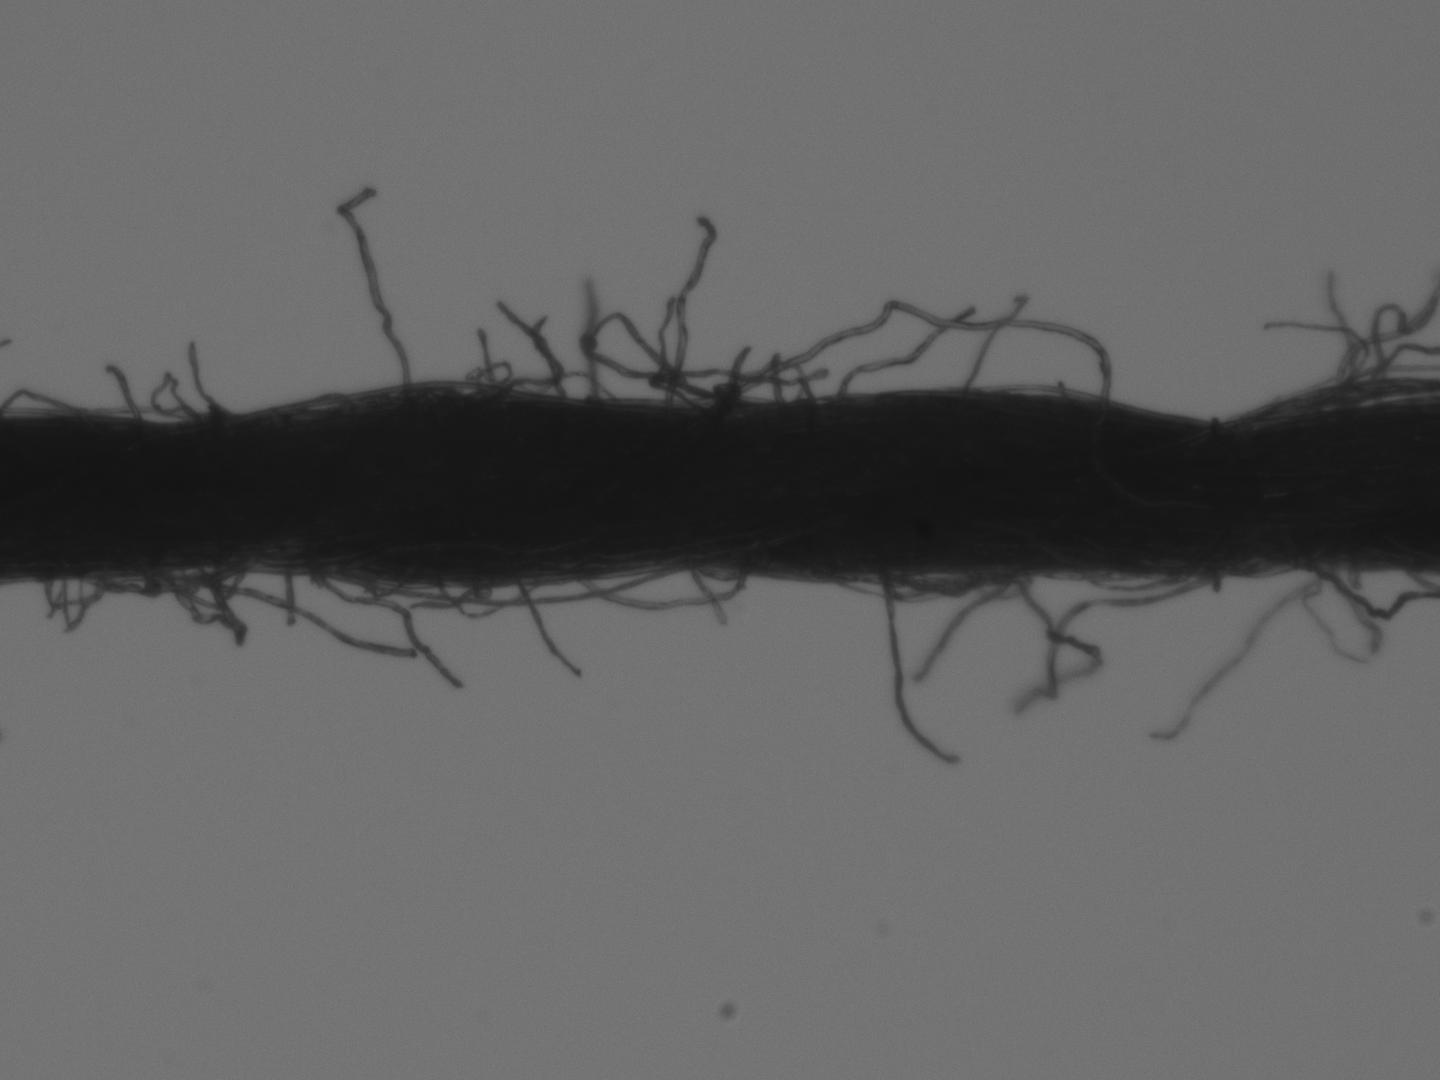loop_fiber: (694, 294, 1115, 402), (367, 575, 670, 611), (1284, 560, 1433, 619), (581, 565, 754, 610), (161, 560, 251, 643), (824, 565, 983, 602), (878, 568, 1032, 599), (437, 580, 532, 622), (489, 372, 615, 403), (308, 573, 406, 609), (1076, 569, 1177, 596), (44, 572, 107, 614), (93, 565, 162, 599), (283, 390, 357, 414), (57, 571, 84, 633)
protruding_fiber: (330, 182, 414, 390), (879, 579, 965, 769), (511, 573, 581, 682), (960, 294, 1026, 396), (105, 357, 144, 422)
